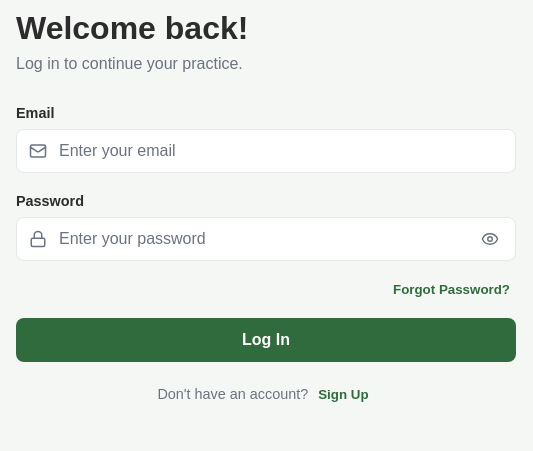
LoginForm › says so instead of 'Invalid email or password' when the server can't be reached
Type "anna@example.com" into the field labelled "Email" at coordinates (275, 151), box [47,130,503,172]
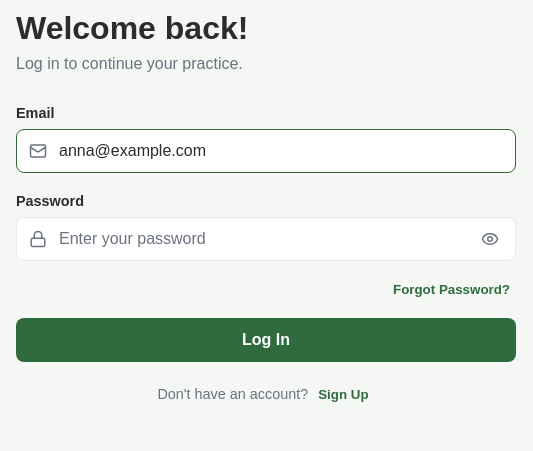
Type "password" into the password field labelled "Password" at coordinates (262, 239), box [47,218,477,260]
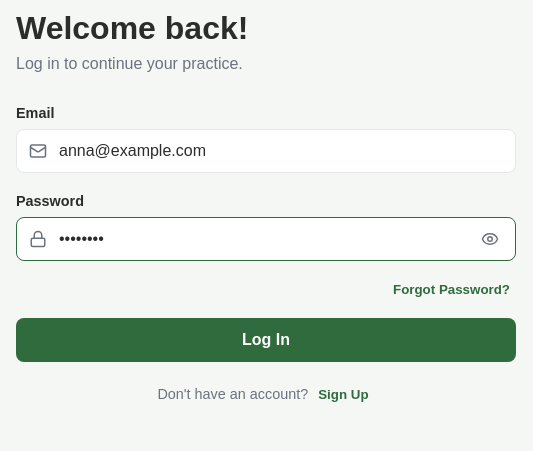
Click the button "Log In" at coordinates (266, 340), box [16,318,516,362]
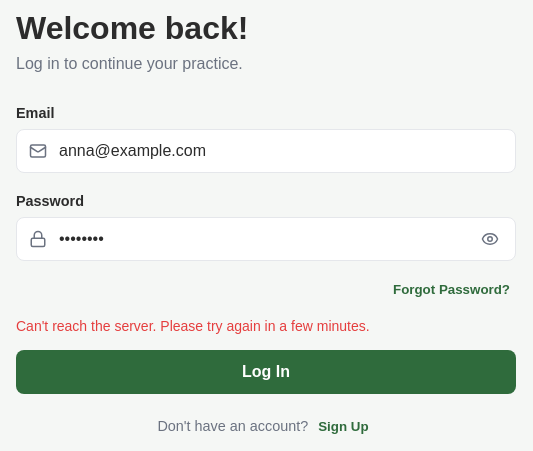
expect the message shows "Can't reach the server": met, box [16,318,370,334]
